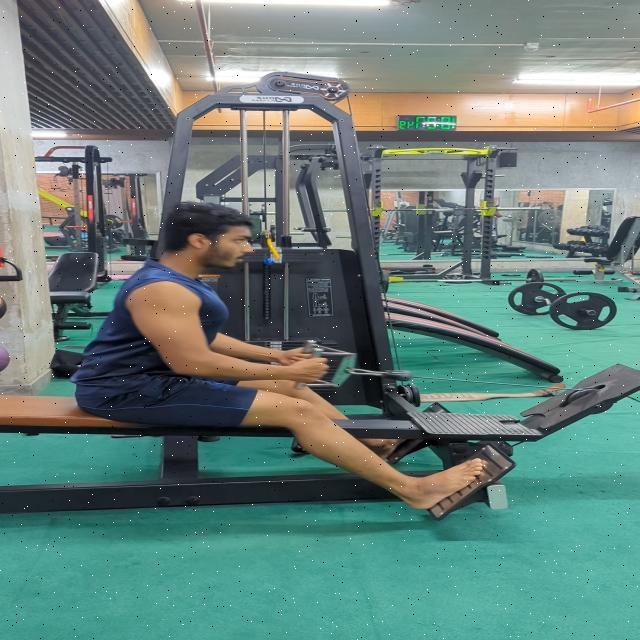Normal_RowingMachineExercise: (73, 199, 488, 510)
